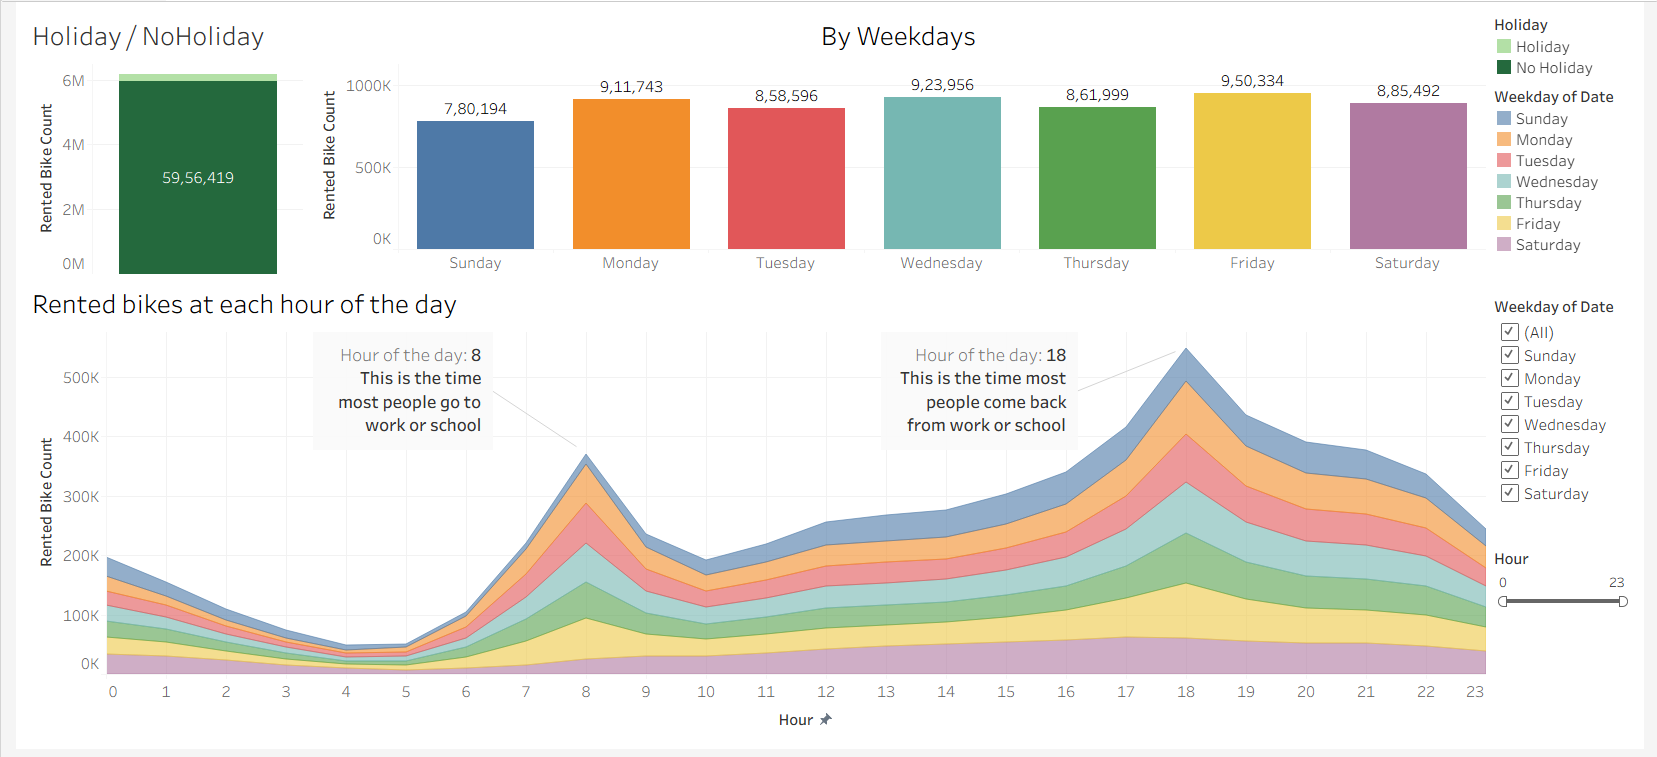

The page's visual inventory and layout, read from the dashboard file:
{"tool":"tableau","page":{"name":"Demand by Day","canvas":[1000,1000],"units":"permille","ordinal":1},"visuals":[{"type":"worksheet","title":"Hoilday d1","mark":"Automatic","rows":["Rented Bike Count"],"box":[6.7,12.2,166.9,357.1]},{"type":"worksheet","title":"weekday d1","mark":"Bar","rows":["Rented Bike Count"],"cols":["Date"],"box":[173.6,12.2,698.1,357.1]},{"type":"legend","title":"Hoilday d1","param":"[federated.1qjxm6e1j7kkr110pkmjh0wcti3r].[none:Holiday:nk]","box":[871.7,12.2,121.7,96.3]},{"type":"legend","title":"Hour d1","param":"[federated.1qjxm6e1j7kkr110pkmjh0wcti3r].[wd:Date:ok]","box":[871.7,108.5,121.7,279.6]},{"type":"worksheet","title":"Hour d1","mark":"Area","rows":["Rented Bike Count"],"cols":["Hour"],"box":[6.7,369.4,865,618.4]},{"type":"filter","title":"Hour d1","param":"[federated.1qjxm6e1j7kkr110pkmjh0wcti3r].[wd:Date:ok]","box":[871.7,388.1,121.7,385.9]},{"type":"filter","title":"Hour d1","param":"[federated.1qjxm6e1j7kkr110pkmjh0wcti3r].[none:Hour:qk]","box":[871.7,774,121.7,119.5]}]}

Visuals, with their boxes on the dashboard's canvas, which has no fixed pixel size, in thousandths of its width and height (x1, y1, x2, y2). These are canvas units, not pixel positions in the 1657x757 screenshot, which may show the page scaled, cropped or inside an application window:
"Hoilday d1" worksheet: [7, 12, 174, 369]
"weekday d1" worksheet (Bar marks): [174, 12, 872, 369]
"Hoilday d1" legend: [872, 12, 993, 108]
"Hour d1" legend: [872, 108, 993, 388]
"Hour d1" worksheet (Area marks): [7, 369, 872, 988]
"Hour d1" filter: [872, 388, 993, 774]
"Hour d1" filter: [872, 774, 993, 894]
